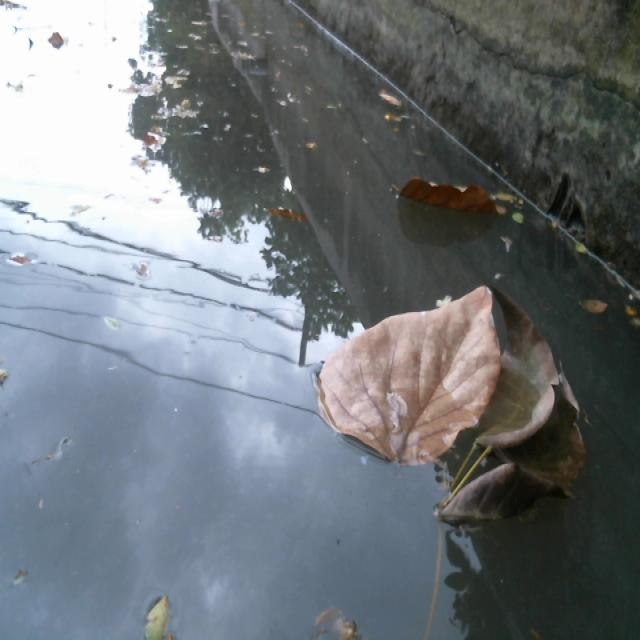Big-leaf: (423, 305, 602, 534), (304, 289, 498, 478), (397, 168, 509, 221)
Small-leaf: (132, 571, 190, 640), (302, 595, 373, 640), (255, 199, 309, 241), (8, 237, 58, 278), (374, 84, 421, 126), (91, 308, 133, 353), (0, 343, 22, 399), (565, 235, 598, 269), (615, 287, 640, 330), (512, 199, 539, 238)
